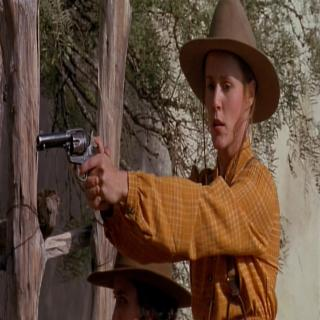gun: (35, 123, 112, 207)
